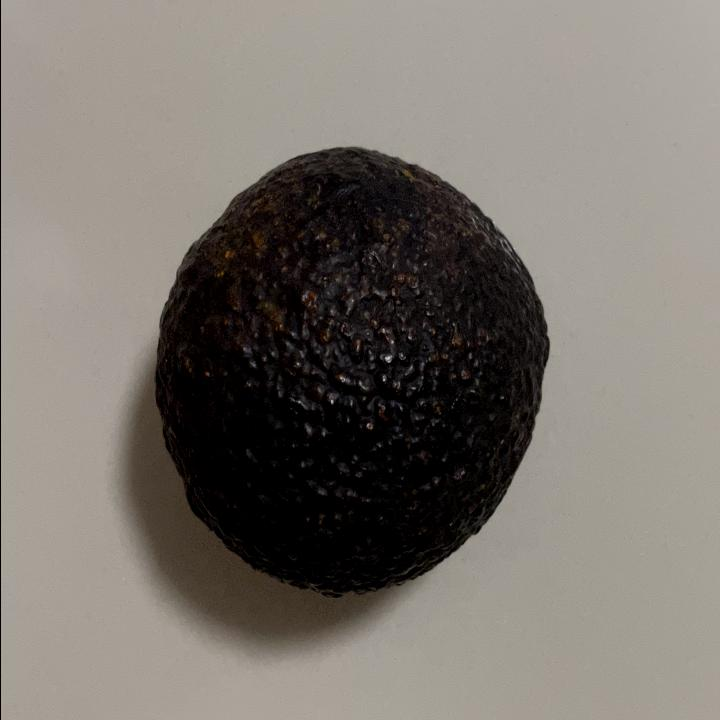Level2: (148, 137, 556, 604)
